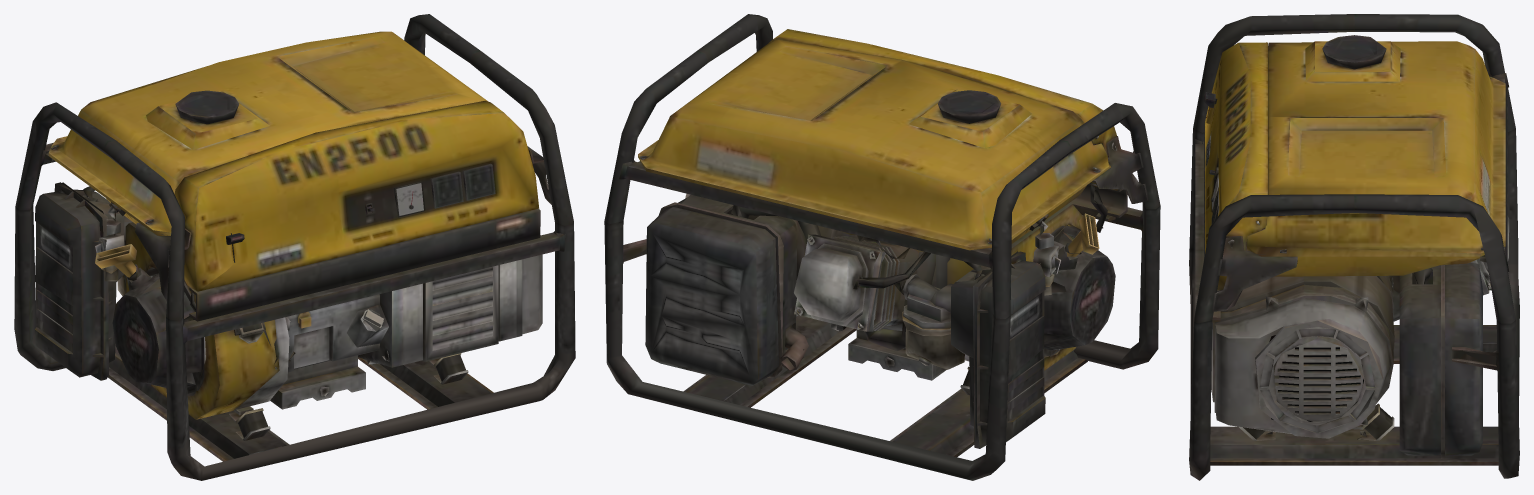
Rendered from portable_generator.glb.
The picture shows the model from 3 angles, left to right: view 1: azimuth 30°, elevation 25°; view 2: azimuth 150°, elevation 25°; view 3: azimuth 270°, elevation 25°; orthographic projection.
Visible parts, largest first — view 1: portable_generator; view 2: portable_generator; view 3: portable_generator.
Part boxes in pixels (x1,y1,x2,y2): portable_generator: (14,14,575,480); portable_generator: (604,14,1160,480); portable_generator: (1189,14,1519,480).
Bounding box in the file's own units: 0.8146 × 0.5752 × 0.564.
2 materials, 2 textured.
